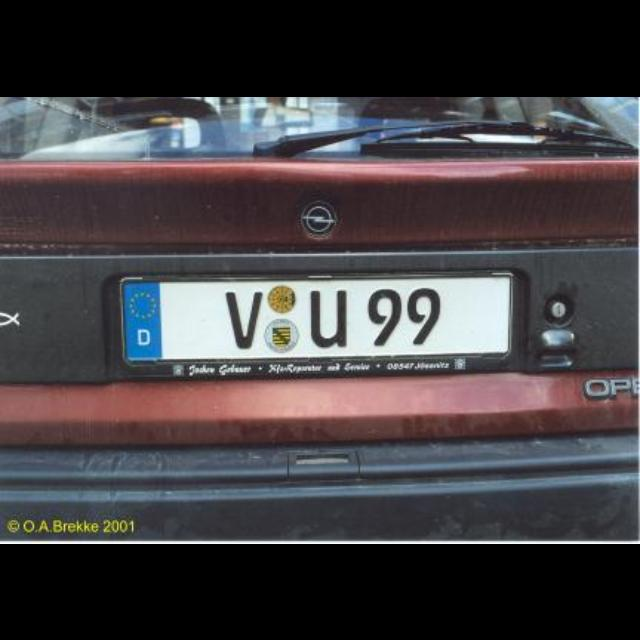d_license_plate: (122, 276, 510, 356)
